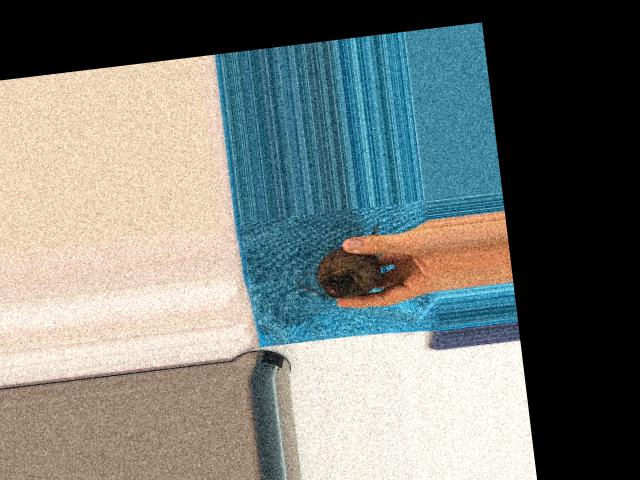beet: (291, 222, 387, 302)
